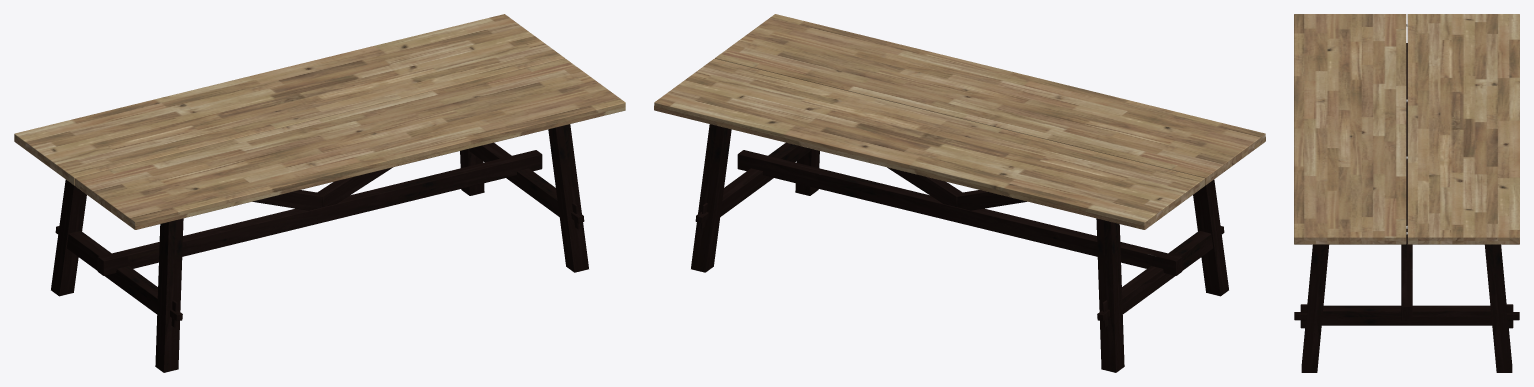
The model's file is skogsta_sto_70419264.glb.
3 renders of one model, left to right at view 1: azimuth 30°, elevation 25°; view 2: azimuth 150°, elevation 25°; view 3: azimuth 270°, elevation 25°, orthographic. The views are drawn at different scales.
Visible parts, largest first — view 1: skogsta_sto_70419264; view 2: skogsta_sto_70419264; view 3: skogsta_sto_70419264.
Boxes of the visible parts, x1,y1,x2,y2 form: skogsta_sto_70419264: [14, 14, 625, 372]; skogsta_sto_70419264: [654, 14, 1265, 372]; skogsta_sto_70419264: [1294, 14, 1519, 372].
Bounding box in the file's own units: 2.35 × 0.743 × 1.
Materials: 1 (1 with a texture image).
